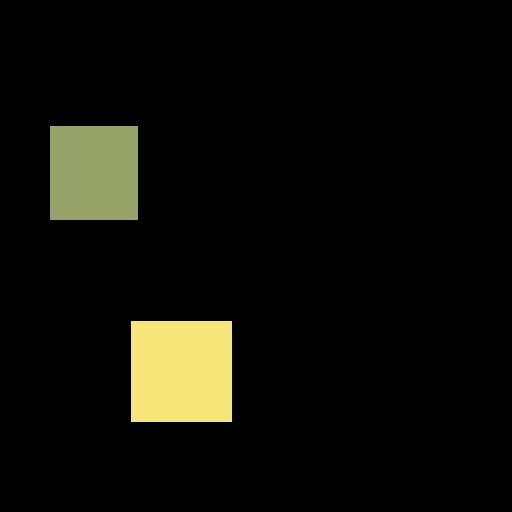square: (131, 321, 231, 421), (50, 126, 137, 219)
